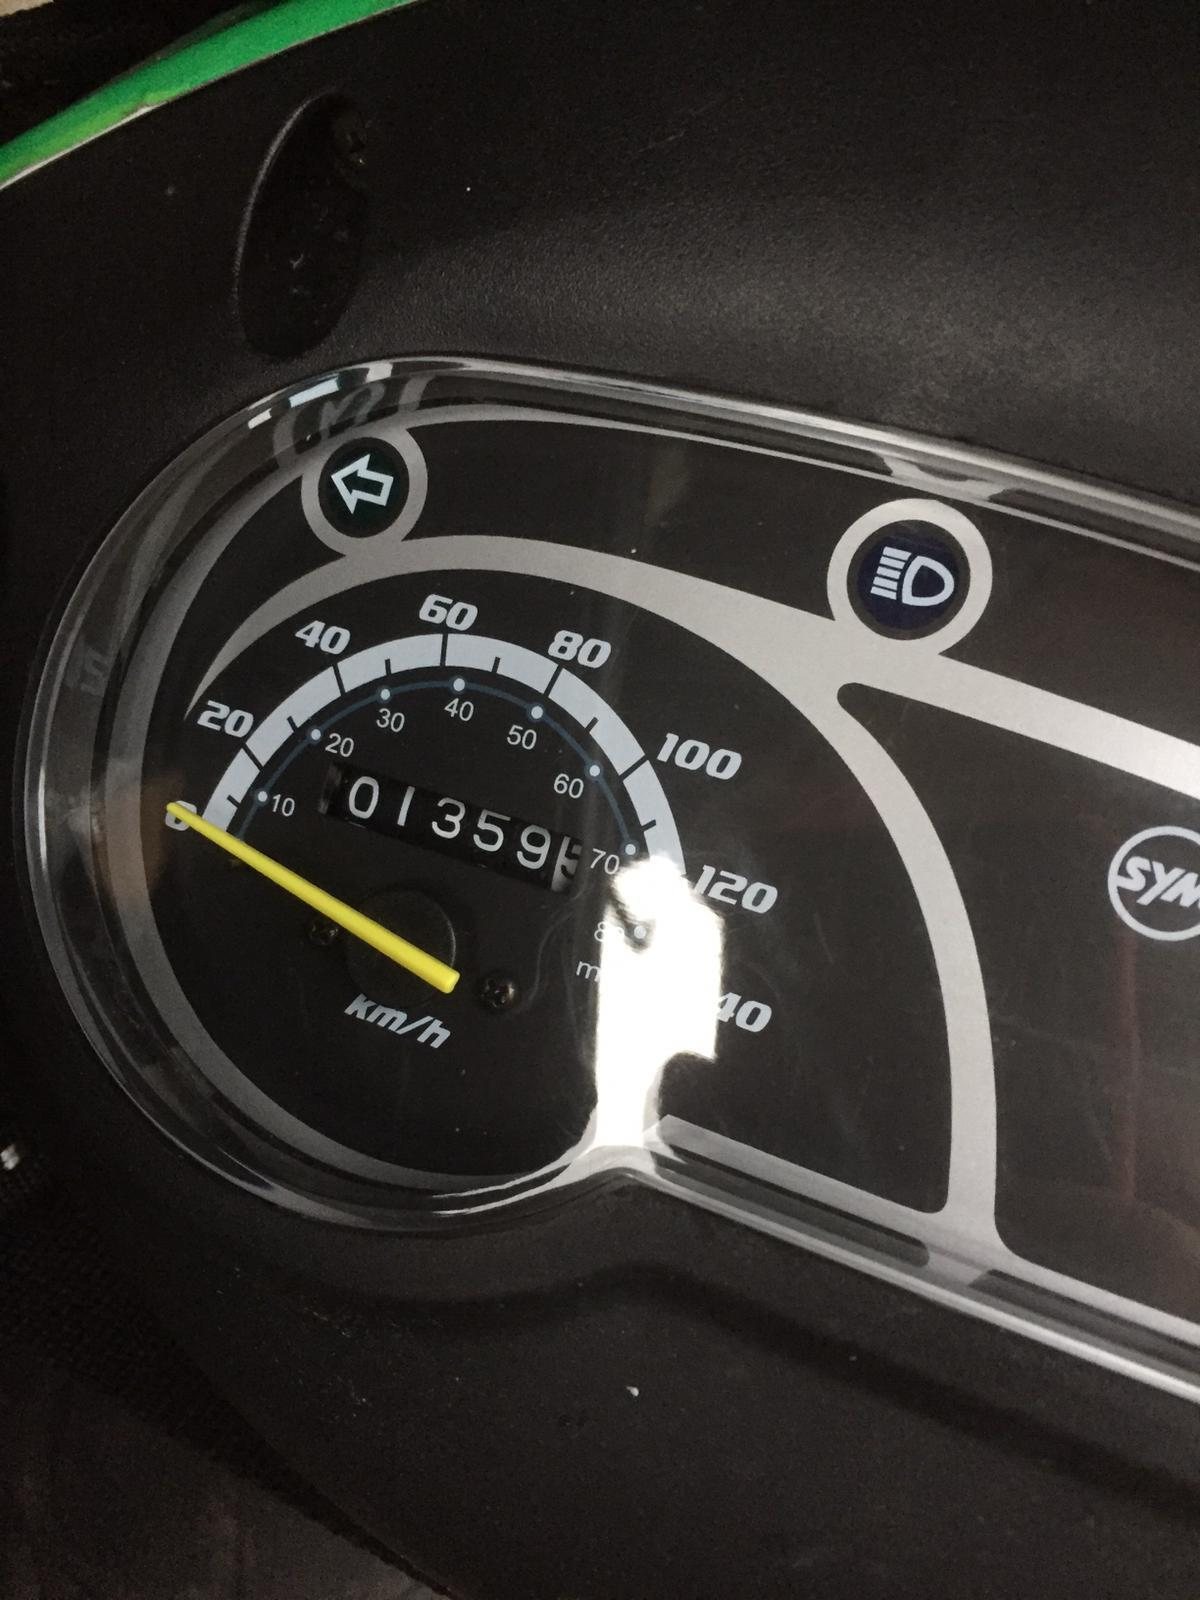0: (345, 772, 381, 821), (568, 775, 584, 800)
1: (393, 782, 418, 828)
3: (430, 792, 468, 842)
5: (471, 805, 511, 855), (558, 834, 584, 882)
6: (552, 771, 570, 795)
9: (516, 821, 551, 871)
odometer: (313, 758, 590, 902)
